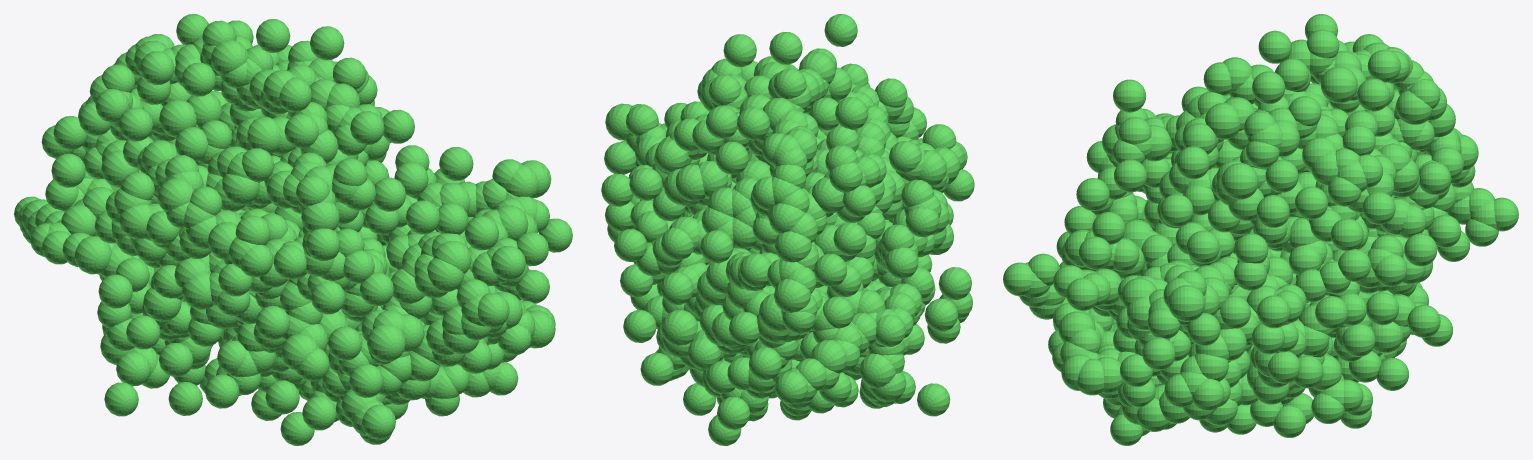
The model's file is 1lyz__spheres__chain.glb.
The picture shows the model from 3 angles, left to right: view 1: azimuth 30°, elevation 25°; view 2: azimuth 150°, elevation 25°; view 3: azimuth 270°, elevation 25°; orthographic projection. The views are drawn at different scales.
Parts seen in each view (by area): view 1: Renderer Node; view 2: Renderer Node; view 3: Renderer Node.
Boxes of the visible parts, x1=… form: Renderer Node: x1=14, y1=14, x2=572, y2=445; Renderer Node: x1=601, y1=14, x2=974, y2=445; Renderer Node: x1=1003, y1=14, x2=1518, y2=445.
Size of the model in its own units: 42.59 by 40.17 by 47.23.
